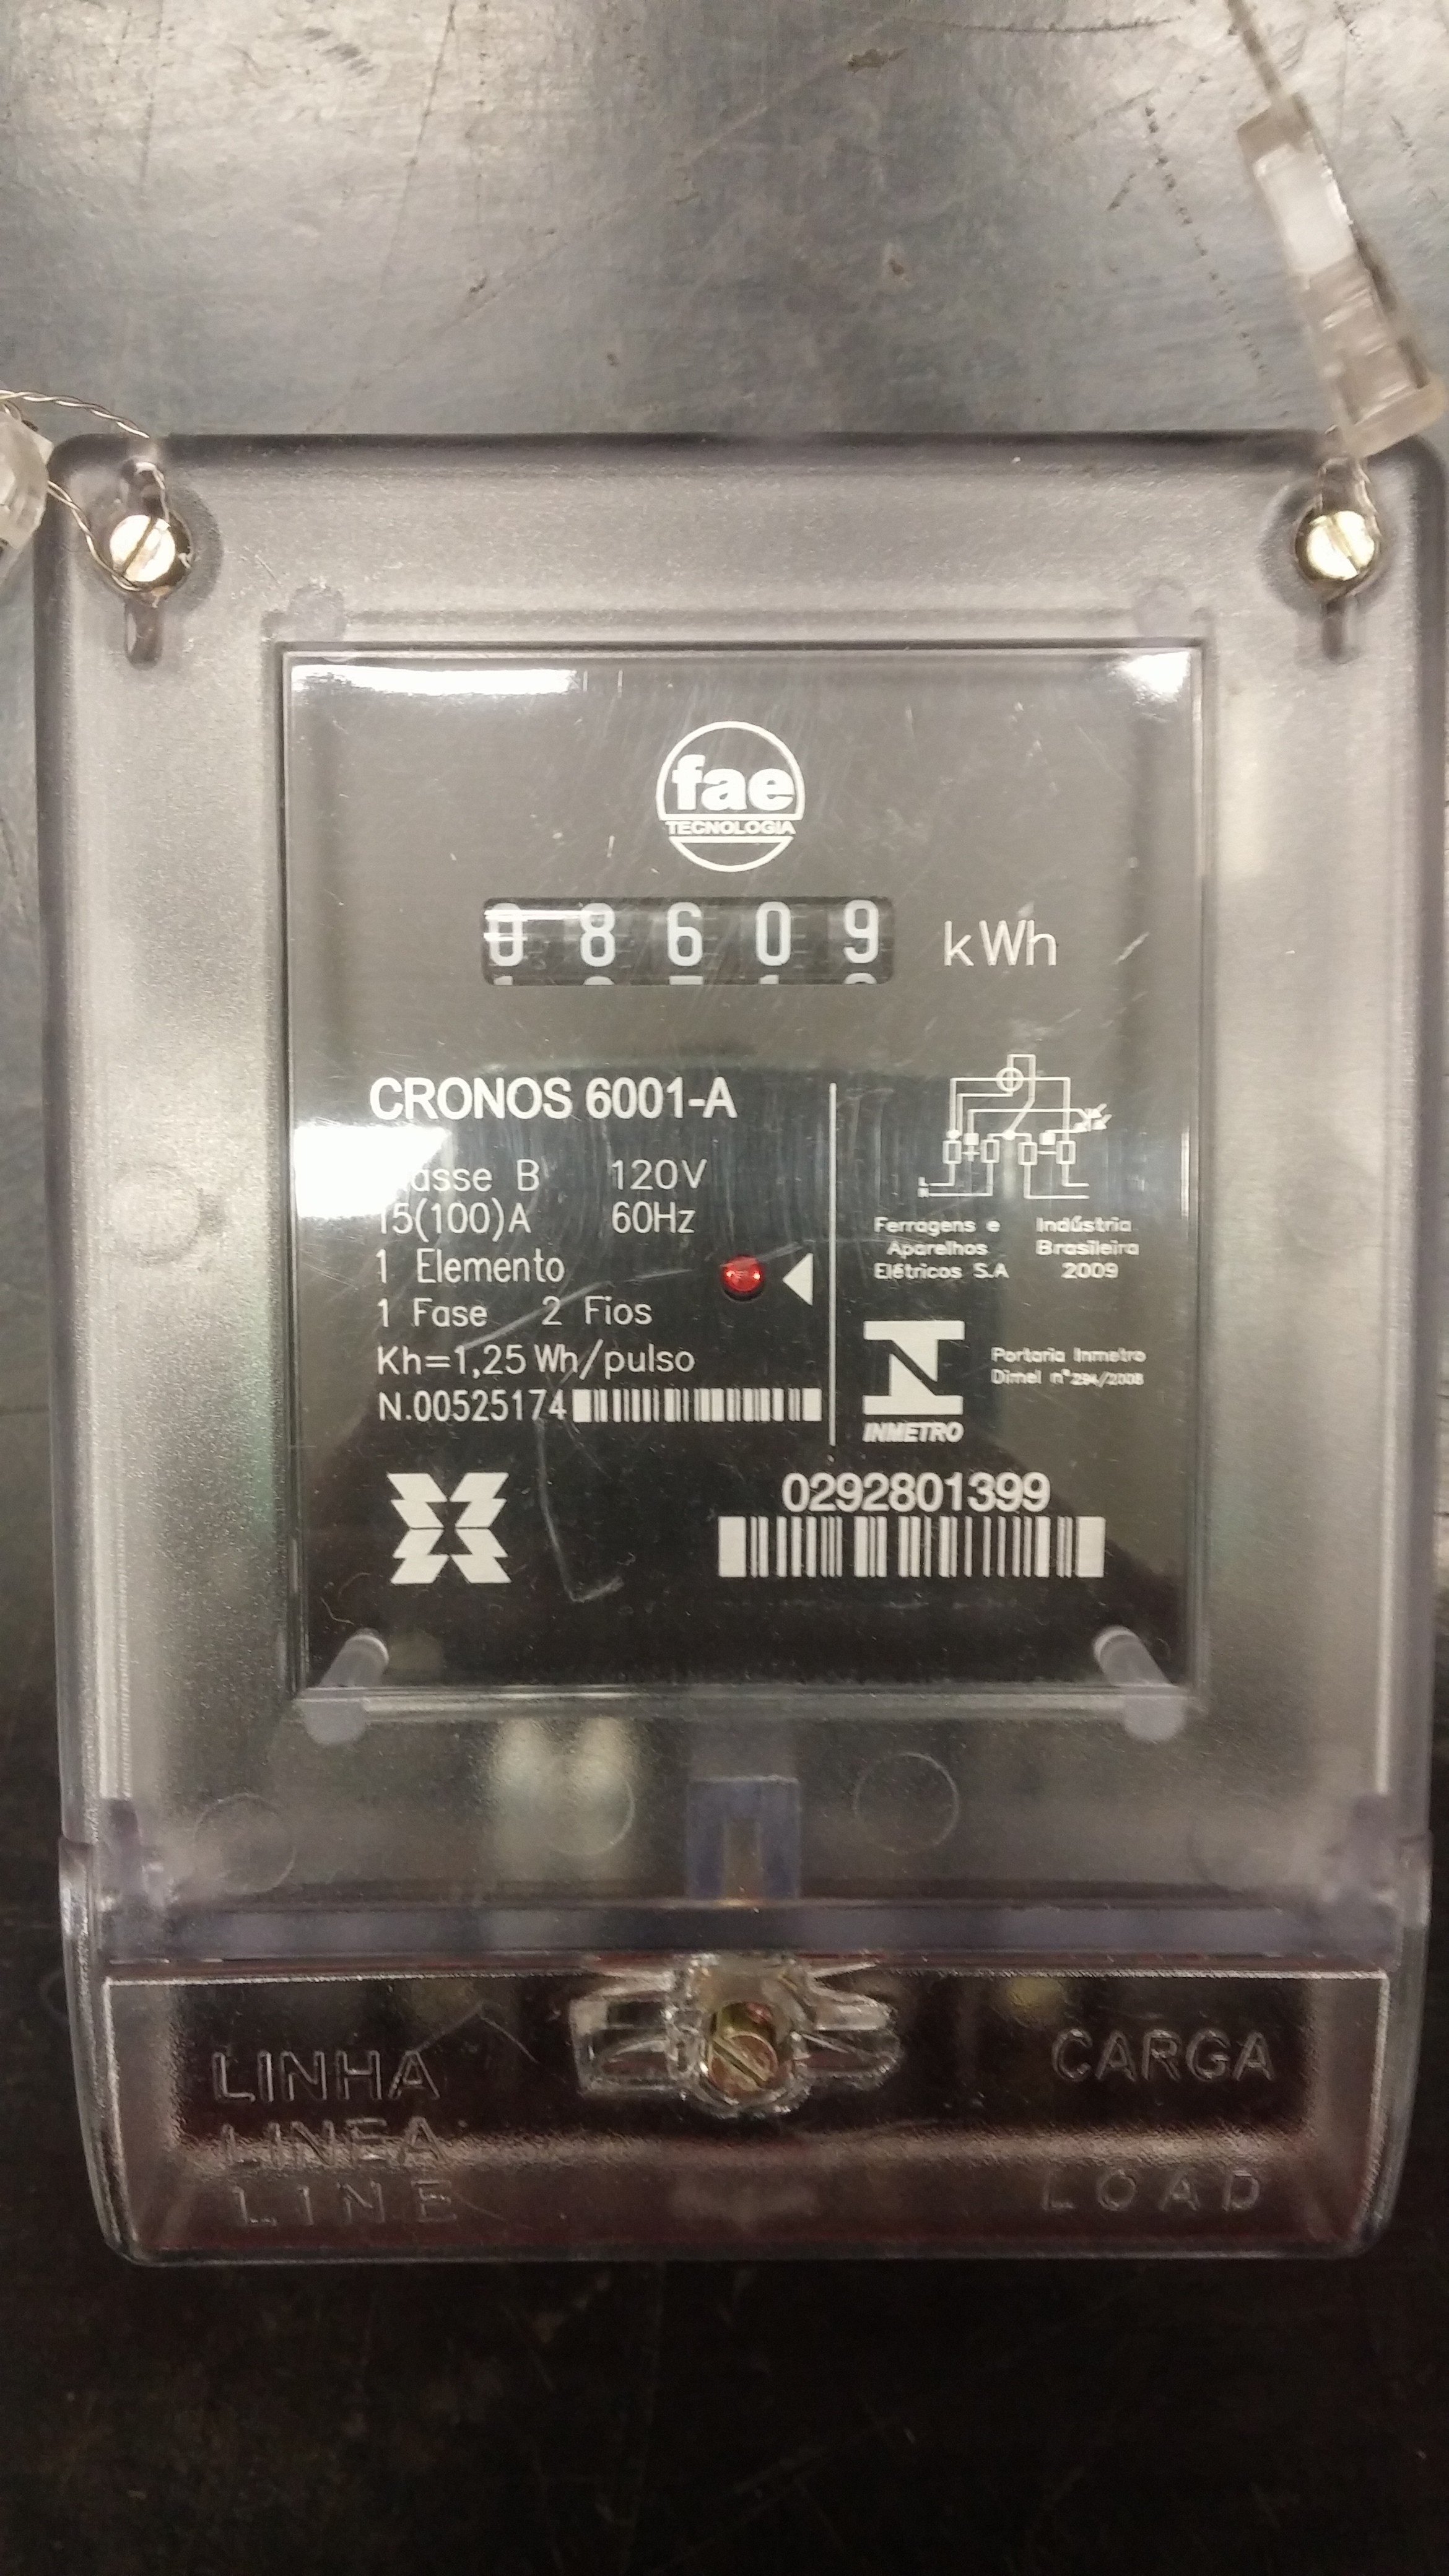counter1: (472, 890, 901, 996)
